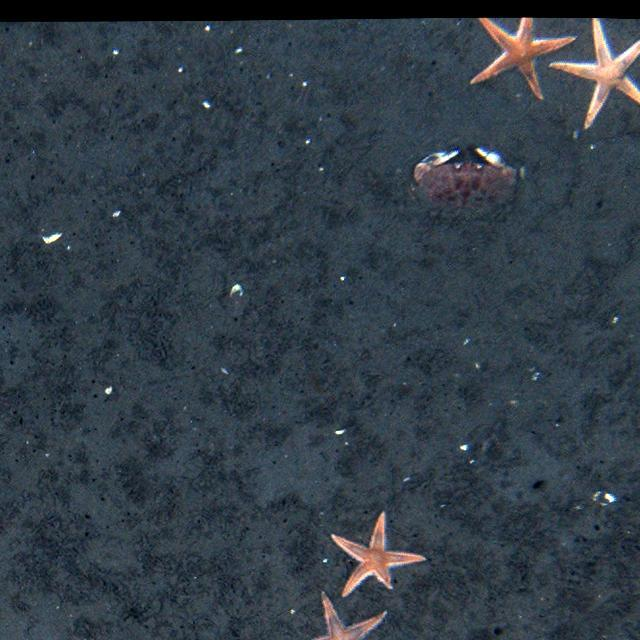crab: (402, 137, 522, 222)
